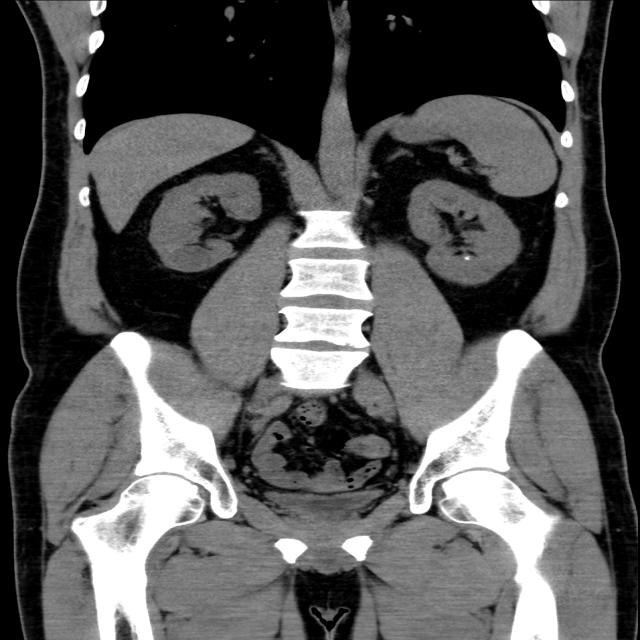kidneystone: (463, 254, 475, 261)
